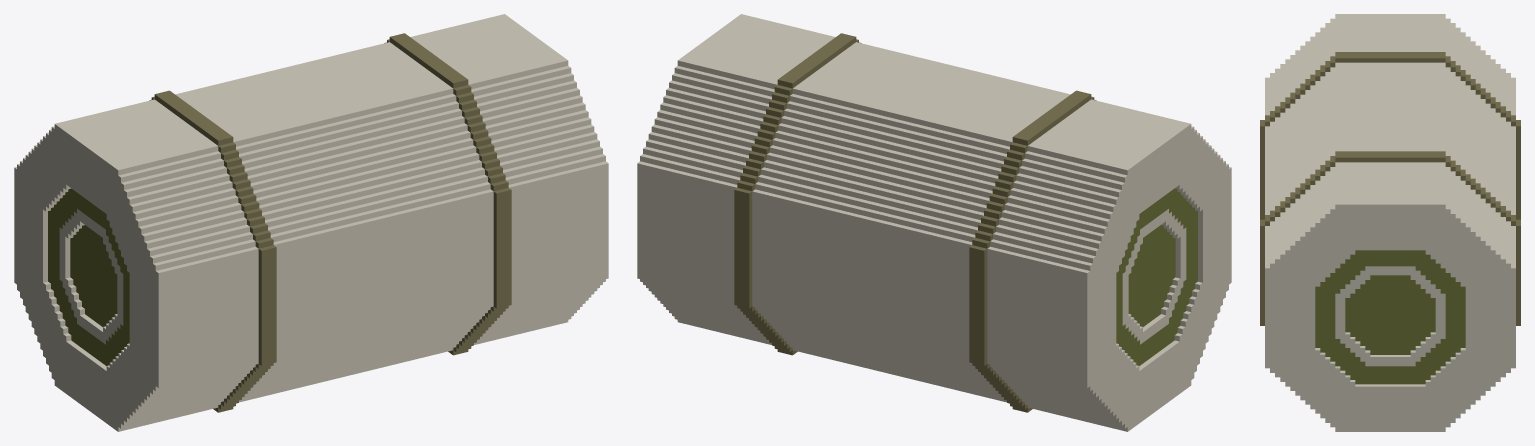
File: makeshift_pillow.glb
3 renders of one model, left to right at view 1: azimuth 30°, elevation 25°; view 2: azimuth 150°, elevation 25°; view 3: azimuth 270°, elevation 25°, orthographic. The views are drawn at different scales.
Visible parts, largest first — view 1: makeshift_pillow:compound; view 2: makeshift_pillow:compound; view 3: makeshift_pillow:compound.
Part boxes in pixels (x1,y1,x2,y2): makeshift_pillow:compound: (14, 14, 608, 431); makeshift_pillow:compound: (637, 14, 1231, 431); makeshift_pillow:compound: (1260, 14, 1520, 431).
Bounding box in the file's own units: 0.36 × 0.208 × 0.208.
